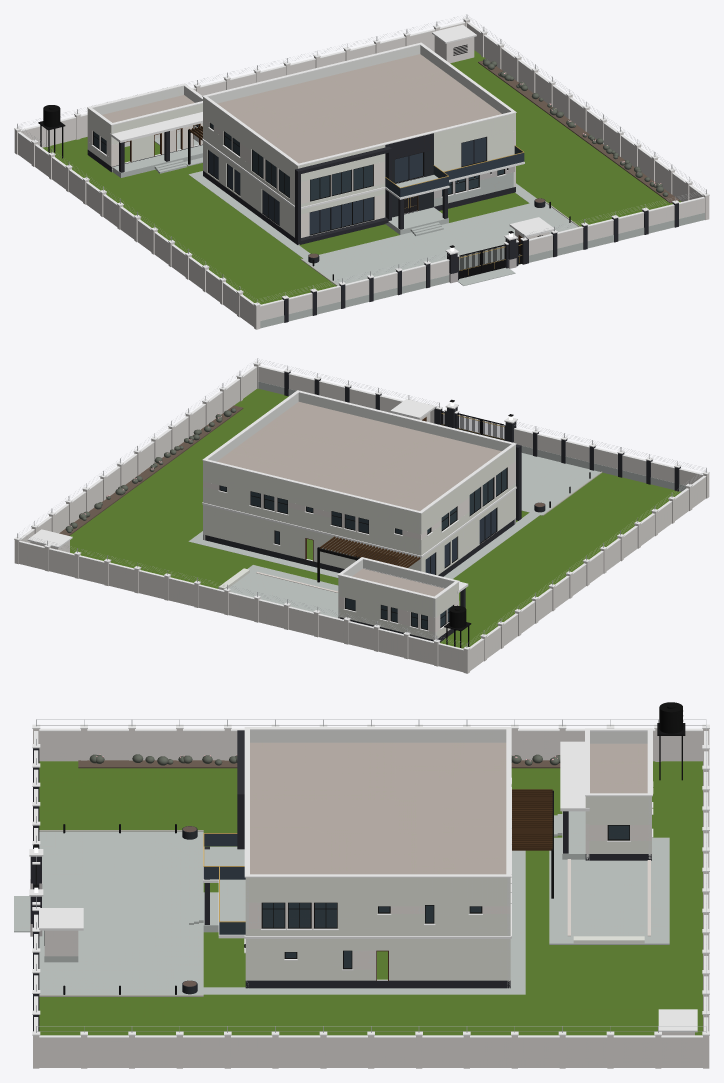
Rendered from est_S4.glb.
The picture shows the model from 3 angles, top to bottom: view 1: azimuth 30°, elevation 25°; view 2: azimuth 150°, elevation 25°; view 3: azimuth 270°, elevation 25°; orthographic projection. The views are drawn at different scales.
Parts seen in each view (by area): view 1: GR_est_S4, GD_est_S4, GT_est_S4; view 2: GR_est_S4, GD_est_S4, GT_est_S4; view 3: GR_est_S4, GD_est_S4.
Boxes of the visible parts, <box> form: GR_est_S4: <box>14,20,709,329</box>; GD_est_S4: <box>14,14,709,305</box>; GT_est_S4: <box>459,242,522,278</box>; GR_est_S4: <box>14,364,709,673</box>; GD_est_S4: <box>14,358,709,649</box>; GT_est_S4: <box>441,411,504,440</box>; GR_est_S4: <box>14,727,709,1068</box>; GD_est_S4: <box>29,702,709,1035</box>.
Size of the model in its own units: 52.55 by 10.33 by 49.87.
8 materials, 2 textured.
